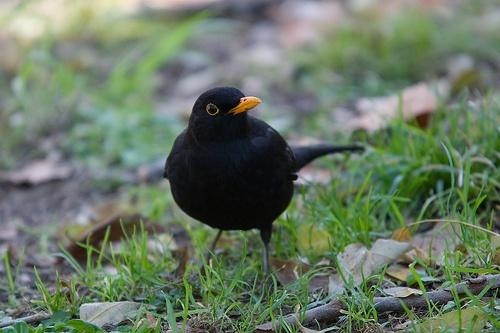bird: (164, 86, 366, 279)
